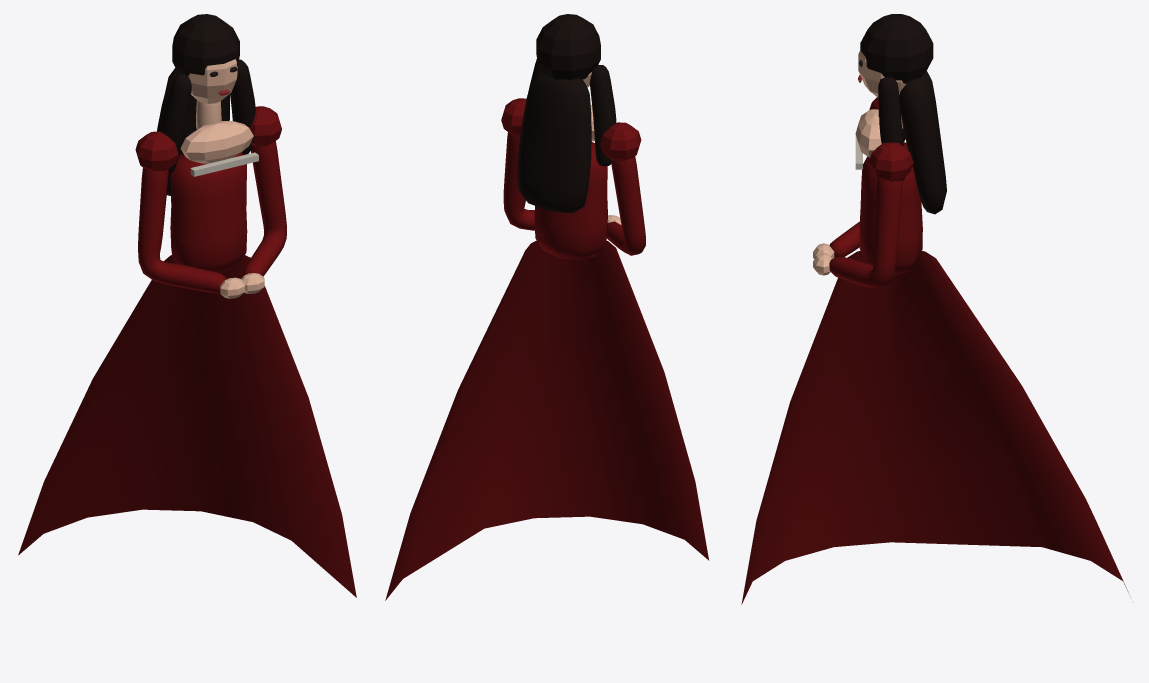
Rendered from melissa_idle.obj.
3 views of the same model, side by side, from view 1: azimuth 30°, elevation 25°; view 2: azimuth 150°, elevation 25°; view 3: azimuth 270°, elevation 25° (orthographic). The views are drawn at different scales.
Parts seen in each view (by area): view 1: skirt, bodice, sleeves, hair_cap, decollete, wave, head, puff, wave.001, hair_back, puff.001, trim (+1 smaller); view 2: skirt, hair_back, sleeves, bodice, hair_cap, wave, puff, puff.001; view 3: skirt, hair_back, sleeves, hair_cap, bodice, wave.001, puff.001, decollete, head.
Boxes of the visible parts, x1,y1,x2,y2 form: skirt: (18,255,356,597); bodice: (170,152,247,273); sleeves: (138,141,286,293); hair_cap: (172,14,239,75); decollete: (180,121,253,163); wave: (161,73,191,173); head: (179,59,237,103); puff: (135,131,178,171); wave.001: (230,59,255,154); hair_back: (157,68,229,195); puff.001: (249,106,281,147); trim: (190,152,258,176); skirt: (385,240,708,600); hair_back: (517,70,591,213); sleeves: (503,132,645,255); bodice: (534,142,607,259); hair_cap: (536,14,600,79); wave: (589,65,616,166); puff: (600,122,641,161); puff.001: (501,98,526,137); skirt: (741,250,1132,604); hair_back: (899,71,946,214); sleeves: (829,178,902,288); hair_cap: (860,14,933,83); bodice: (859,142,922,275); wave.001: (878,76,904,180); puff.001: (868,142,913,182); decollete: (855,109,881,157); head: (858,50,906,97).
Size of the model in its own units: 0.8 by 1.74 by 1.05.
